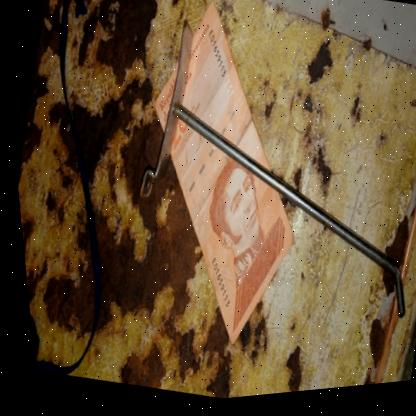twenty-front-vef: (89, 0, 352, 368)
